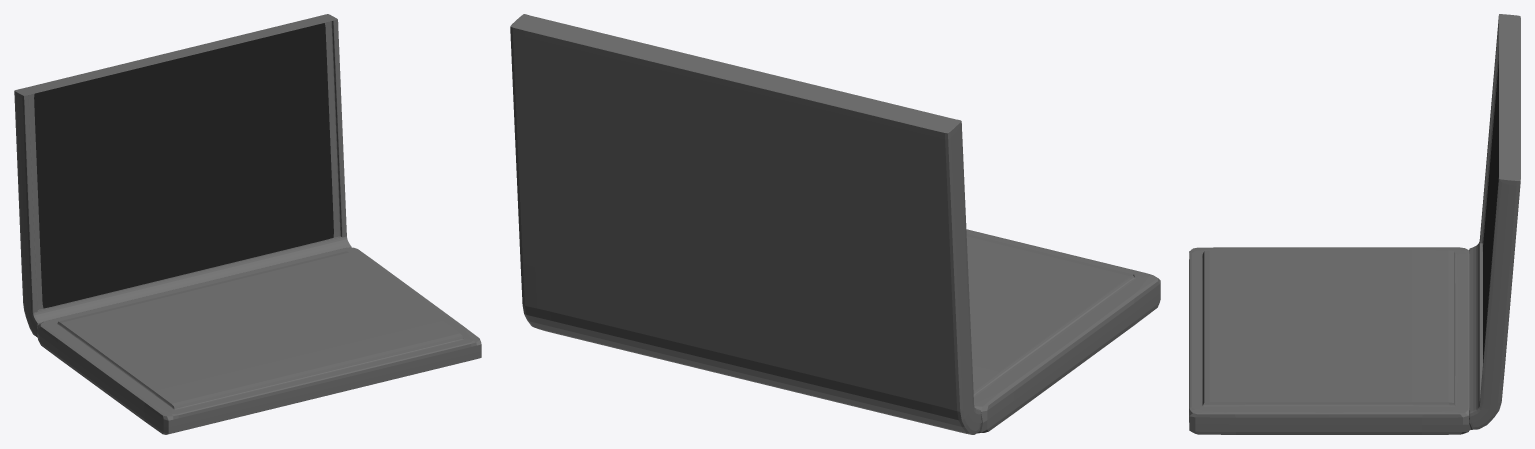
Rendered from Laptop.fbx.
3 views of the same model, side by side, from view 1: azimuth 30°, elevation 25°; view 2: azimuth 150°, elevation 25°; view 3: azimuth 270°, elevation 25° (orthographic). The views are drawn at different scales.
Parts seen in each view (by area): view 1: Laptop; view 2: Laptop; view 3: Laptop.
Part boxes in pixels (<box>): Laptop: <box>14,14,481,434</box>; Laptop: <box>510,14,1160,434</box>; Laptop: <box>1189,14,1520,434</box>.
Bounding box in the file's own units: 47.58 × 33.78 × 39.8.
